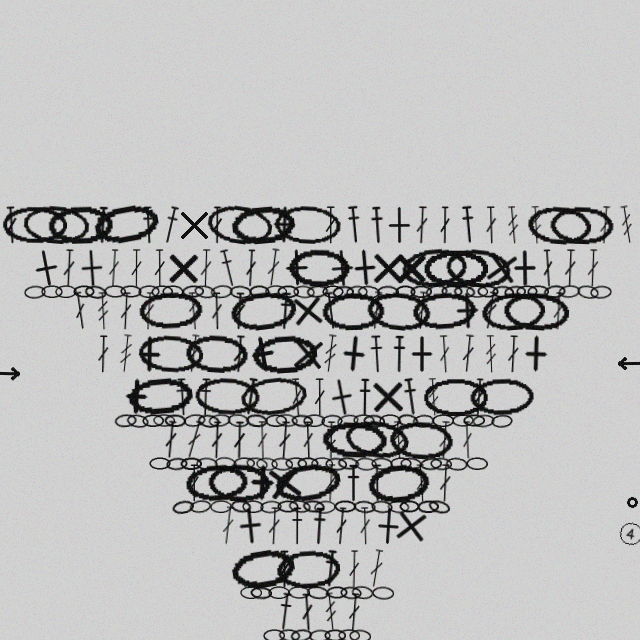chain: (91, 200, 161, 249), (272, 459, 343, 507), (228, 545, 297, 592), (342, 416, 411, 463), (205, 201, 274, 248), (228, 288, 298, 333), (239, 374, 308, 419), (444, 246, 513, 290), (365, 289, 433, 333), (22, 203, 91, 246), (126, 375, 194, 418), (400, 246, 468, 289), (366, 461, 432, 505), (229, 203, 296, 246), (502, 290, 570, 332), (388, 419, 455, 461), (137, 333, 204, 375), (251, 333, 318, 375), (411, 290, 478, 332), (274, 204, 342, 245), (275, 548, 341, 590), (184, 462, 250, 504), (480, 290, 546, 332), (526, 204, 592, 246), (194, 376, 261, 417), (184, 333, 250, 374), (138, 290, 204, 331), (207, 462, 272, 503), (321, 420, 387, 460), (549, 205, 615, 245), (469, 377, 534, 417), (321, 291, 386, 331), (47, 205, 113, 244), (423, 378, 489, 416), (423, 249, 488, 287), (2, 206, 67, 244), (288, 248, 351, 287), (427, 498, 451, 516), (171, 499, 195, 515), (245, 456, 269, 472), (336, 413, 360, 429), (193, 284, 217, 300), (576, 284, 600, 300), (126, 413, 149, 429), (197, 413, 220, 429), (84, 284, 107, 300), (306, 585, 329, 600), (351, 585, 374, 600), (189, 499, 212, 514), (288, 499, 311, 514), (302, 499, 325, 514), (214, 456, 237, 471), (337, 456, 360, 471), (114, 413, 137, 428), (183, 413, 206, 428), (208, 413, 231, 428), (227, 413, 250, 428), (245, 413, 268, 428), (275, 413, 298, 428), (210, 284, 233, 299), (306, 284, 329, 299), (425, 284, 448, 299), (543, 284, 566, 299), (558, 284, 581, 299), (230, 499, 252, 514), (397, 413, 419, 428), (353, 500, 376, 514), (387, 500, 410, 514), (445, 457, 468, 471), (412, 414, 435, 428), (472, 414, 495, 428), (229, 285, 252, 299), (357, 285, 380, 299), (453, 285, 476, 299), (250, 586, 272, 600), (340, 586, 362, 600), (372, 586, 394, 600), (260, 500, 282, 514), (314, 500, 336, 514), (371, 500, 393, 514), (166, 457, 188, 471), (196, 457, 218, 471), (256, 457, 278, 471), (271, 457, 293, 471), (325, 457, 347, 471), (355, 457, 377, 471), (371, 457, 393, 471), (400, 457, 422, 471), (420, 457, 442, 471), (430, 457, 452, 471), (291, 414, 313, 428), (321, 414, 343, 428), (363, 414, 385, 428), (491, 414, 513, 428), (24, 285, 46, 299), (293, 285, 315, 299), (332, 285, 354, 299), (346, 285, 368, 299), (377, 285, 399, 299), (492, 285, 514, 299), (504, 285, 526, 299), (590, 285, 612, 299), (240, 586, 262, 599), (268, 586, 290, 599), (288, 586, 310, 599), (326, 586, 348, 599), (210, 500, 232, 513), (242, 500, 264, 513), (277, 500, 299, 513), (334, 500, 356, 513), (417, 500, 439, 513), (149, 457, 171, 470), (180, 457, 202, 470), (233, 457, 255, 470), (285, 457, 307, 470), (297, 457, 319, 470), (311, 457, 333, 470), (390, 457, 412, 470), (466, 457, 488, 470), (142, 414, 164, 427), (153, 414, 175, 427), (164, 414, 186, 427), (265, 414, 287, 427), (303, 414, 325, 427), (353, 414, 375, 427), (379, 414, 401, 427), (432, 414, 454, 427), (452, 414, 474, 427), (463, 414, 485, 427), (41, 285, 63, 298), (55, 285, 77, 298), (73, 285, 95, 298), (104, 285, 126, 298), (120, 285, 142, 298), (138, 285, 160, 298), (151, 285, 173, 298), (162, 285, 184, 298), (182, 285, 204, 298), (265, 285, 287, 298), (277, 285, 299, 298), (322, 285, 344, 298), (410, 285, 432, 298), (441, 285, 463, 298), (466, 285, 488, 298), (477, 285, 499, 298), (516, 285, 538, 298), (527, 285, 549, 298), (278, 628, 301, 640), (290, 628, 313, 640), (399, 500, 420, 513), (249, 285, 270, 298), (395, 285, 416, 298), (263, 629, 285, 640), (309, 629, 331, 640), (324, 629, 346, 640), (338, 629, 360, 640), (349, 629, 371, 640)
double: (183, 420, 205, 459), (367, 549, 386, 588), (481, 291, 500, 330), (71, 291, 89, 330), (185, 334, 202, 373), (368, 291, 385, 330), (265, 248, 282, 287), (220, 506, 236, 545), (163, 420, 179, 459), (460, 334, 476, 373), (414, 291, 430, 330), (346, 593, 362, 631), (289, 378, 305, 416), (300, 593, 315, 631), (334, 507, 349, 545), (414, 464, 429, 502), (277, 421, 292, 459), (437, 421, 452, 459), (232, 335, 247, 373), (437, 335, 452, 373), (232, 292, 247, 330), (4, 206, 19, 244), (267, 507, 281, 545), (358, 507, 372, 545), (324, 464, 338, 502), (438, 464, 452, 502), (210, 421, 224, 459), (301, 421, 315, 459), (472, 378, 486, 416), (96, 335, 110, 373), (506, 335, 520, 373), (119, 292, 133, 330), (142, 292, 156, 330), (210, 292, 224, 330), (62, 249, 76, 287), (107, 249, 121, 287), (199, 249, 213, 287), (244, 249, 258, 287), (541, 249, 555, 287), (563, 249, 577, 287), (586, 249, 600, 287), (415, 206, 429, 244), (484, 206, 498, 244), (598, 206, 612, 244), (278, 550, 291, 588), (233, 421, 246, 459), (256, 421, 269, 459), (461, 421, 474, 459), (313, 378, 326, 416), (552, 292, 565, 330), (130, 249, 143, 287), (153, 249, 166, 287), (324, 206, 337, 244), (348, 550, 360, 588), (188, 464, 200, 502), (211, 206, 223, 244), (439, 206, 451, 244)
half_double: (217, 248, 239, 288), (160, 205, 182, 245), (241, 377, 261, 416), (401, 377, 421, 416), (276, 592, 294, 631), (322, 291, 340, 330), (345, 205, 363, 244), (459, 205, 477, 244), (322, 549, 339, 588), (174, 378, 191, 416), (368, 335, 385, 373), (311, 507, 327, 545), (277, 292, 293, 330), (369, 206, 385, 244), (346, 464, 361, 502), (198, 378, 213, 416), (95, 206, 110, 244), (141, 206, 156, 244), (290, 507, 304, 545), (370, 464, 384, 502), (358, 378, 372, 416), (392, 335, 406, 373)
noise: (616, 519, 640, 549), (0, 365, 22, 381), (615, 356, 640, 370), (626, 496, 639, 509)
single: (320, 375, 364, 419), (241, 332, 285, 376), (24, 246, 68, 290), (263, 461, 306, 504), (480, 246, 523, 289), (390, 505, 432, 547), (230, 505, 271, 546), (333, 333, 374, 374), (287, 290, 328, 331), (344, 247, 385, 288), (368, 506, 408, 546), (288, 334, 328, 374), (72, 248, 112, 288), (322, 248, 362, 288), (243, 463, 282, 502), (117, 377, 156, 416), (368, 377, 407, 416), (516, 334, 555, 373), (448, 291, 487, 330), (277, 248, 316, 287), (265, 205, 304, 244), (130, 335, 168, 373), (403, 335, 441, 373), (164, 249, 202, 287), (369, 249, 407, 287), (392, 249, 430, 287), (506, 249, 544, 287), (175, 206, 213, 244), (380, 206, 418, 244)
treble: (618, 205, 636, 244), (322, 334, 339, 373), (323, 592, 339, 631), (118, 334, 134, 373), (505, 206, 521, 244), (391, 421, 406, 459), (426, 378, 441, 416), (186, 292, 201, 330), (484, 335, 498, 373), (96, 292, 110, 330), (529, 206, 543, 244), (325, 421, 337, 459)
